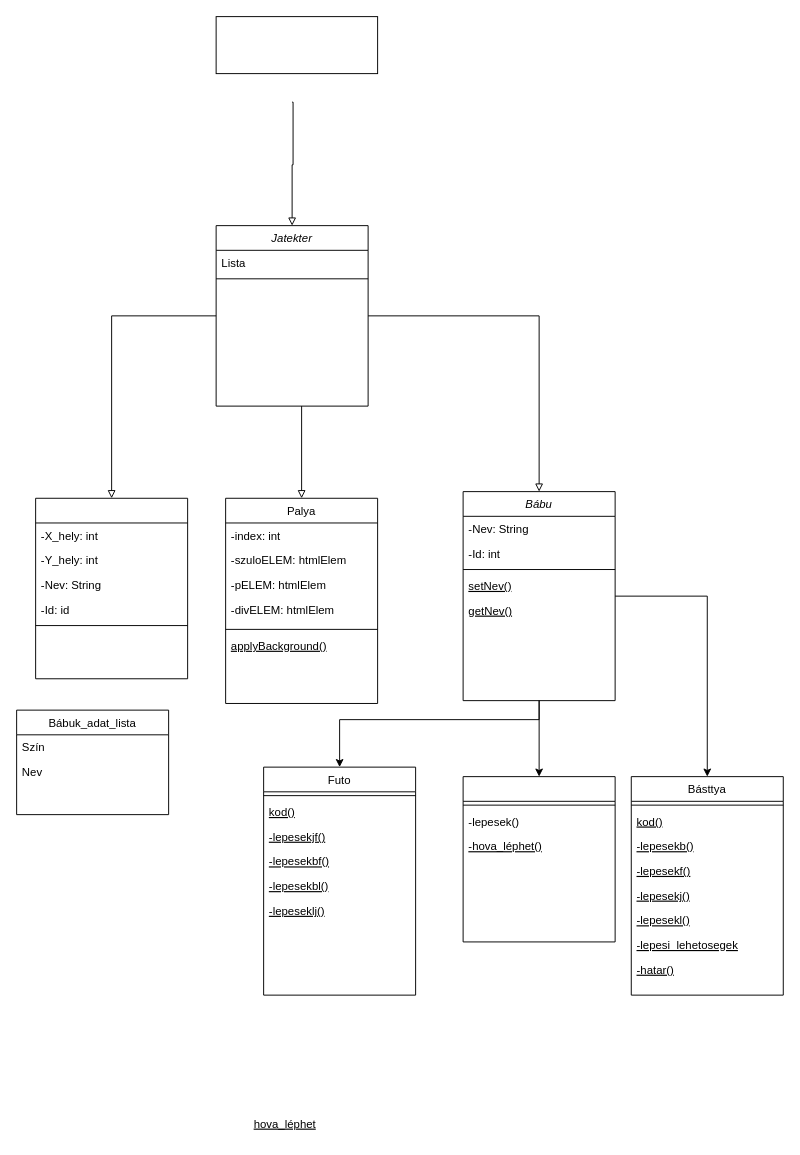
This 800x1155 diagram has some shape labels left out. The shapes that lost their labels are listed below. From the top down, each one's box as (x1, y1, x2, y2) in pixels, then its label:
(215, 16, 378, 74): Main
(35, 497, 188, 679): InfoPanel
(462, 776, 615, 942): Paraszt
